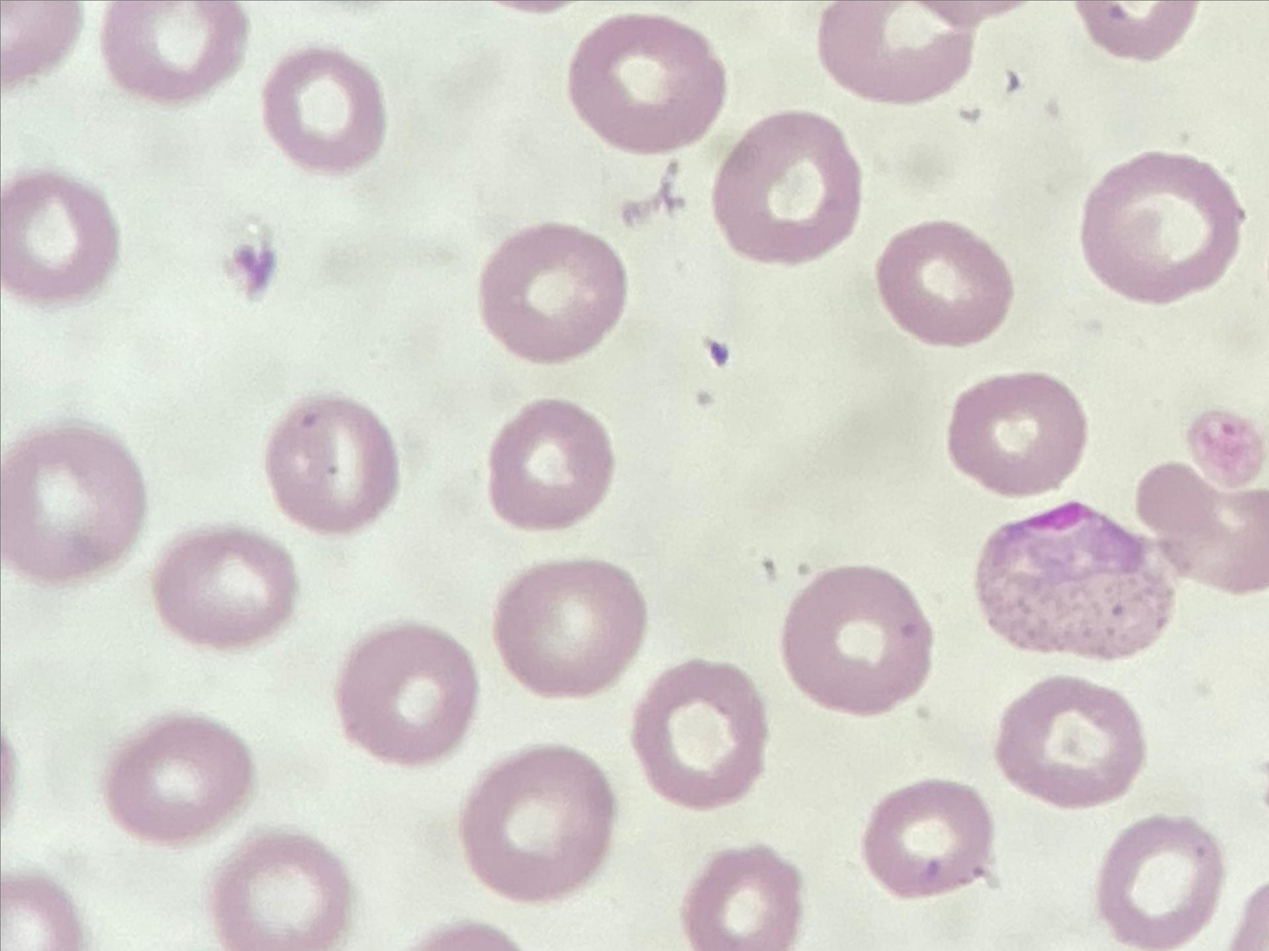Infected: (93, 291, 295, 451)
Uninfected: (25, 648, 188, 800), (654, 50, 812, 206), (1120, 364, 1269, 526), (406, 686, 557, 841), (335, 235, 486, 386), (545, 795, 701, 932), (621, 253, 775, 389), (121, 144, 271, 280), (641, 589, 787, 727), (502, 144, 634, 288), (793, 187, 931, 324), (0, 354, 136, 492), (871, 417, 1006, 555), (1018, 108, 1162, 236), (182, 453, 323, 576), (972, 301, 1118, 419), (46, 0, 171, 135), (254, 608, 390, 732), (296, 847, 452, 951), (919, 0, 1055, 119), (653, 420, 780, 547), (1150, 645, 1269, 779), (884, 777, 1006, 905), (274, 53, 402, 172), (1026, 846, 1167, 951), (466, 0, 586, 102)
